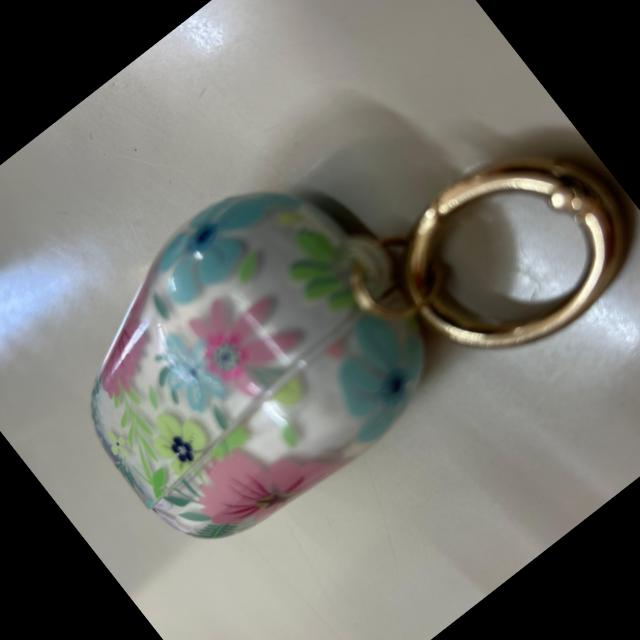inorganic: (22, 0, 640, 599)
